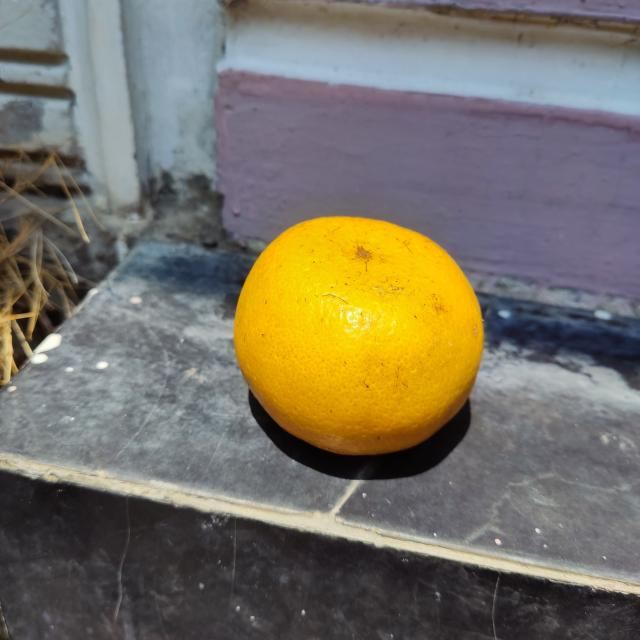orange: (226, 216, 483, 453)
